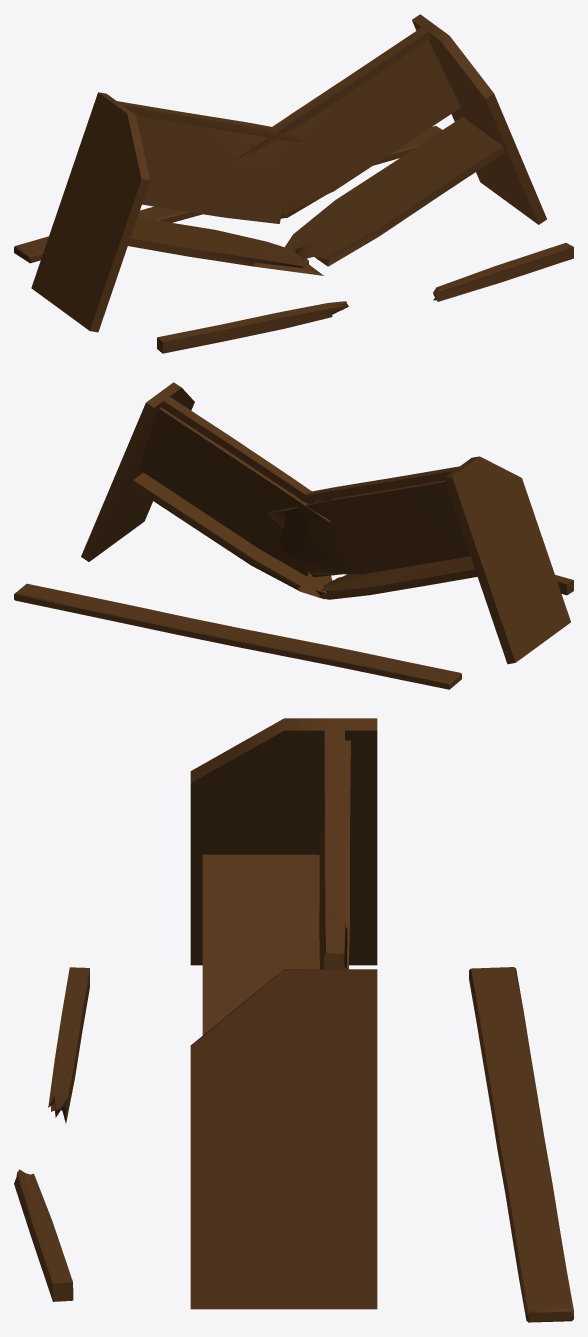
File: kirchenbank_kaputt.glb
3 views of the same model, one above another, from view 1: azimuth 30°, elevation 25°; view 2: azimuth 150°, elevation 25°; view 3: azimuth 270°, elevation 25° (orthographic). The views are drawn at different scales.
Visible parts, largest first — view 1: kirchenbank_kaputt; view 2: kirchenbank_kaputt; view 3: kirchenbank_kaputt.
Boxes of the visible parts, x1,y1,x2,y2 form: kirchenbank_kaputt: (14,14,573,353); kirchenbank_kaputt: (14,382,573,689); kirchenbank_kaputt: (14,718,573,1322).
Size of the model in its own units: 2.54 by 0.9722 by 1.65.
